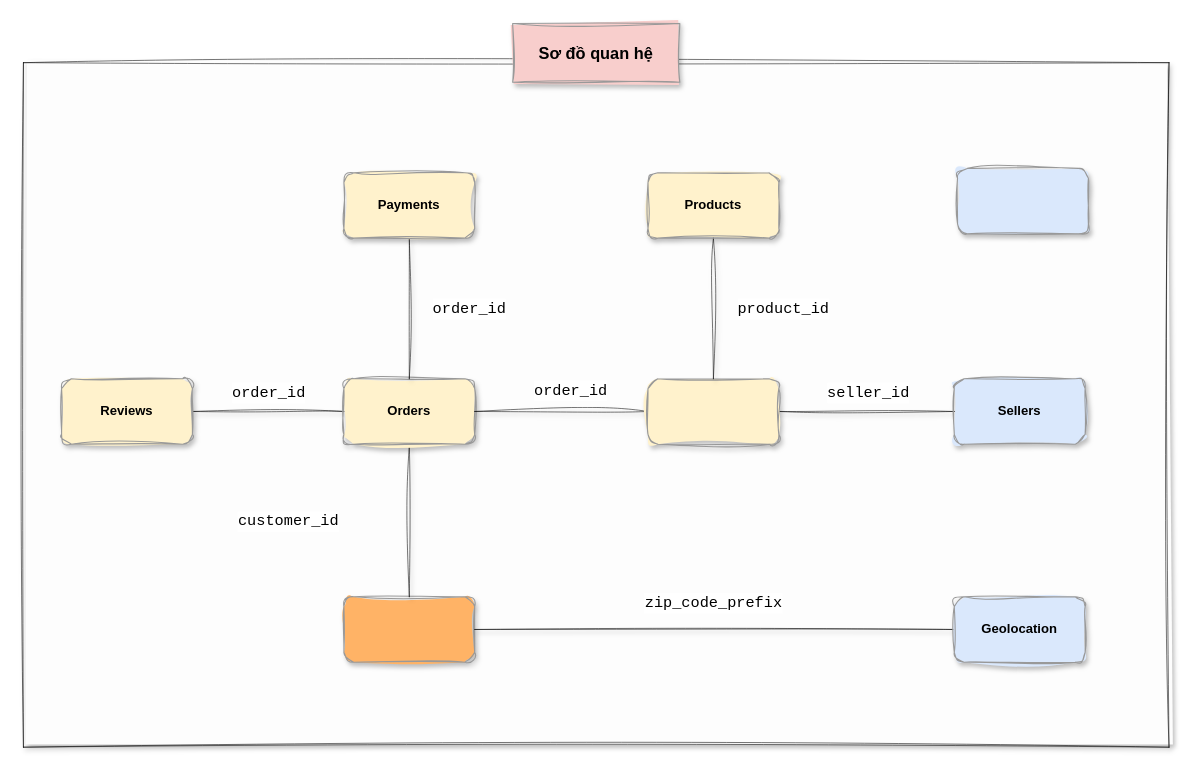
Image size: 1195x774. Some labels were removed from this diagram. Each missing label, with the centre of its shape:
"Category Translation" goes at (1023,202).
"Customers" goes at (409,630).
"Order Items" goes at (714,412).
